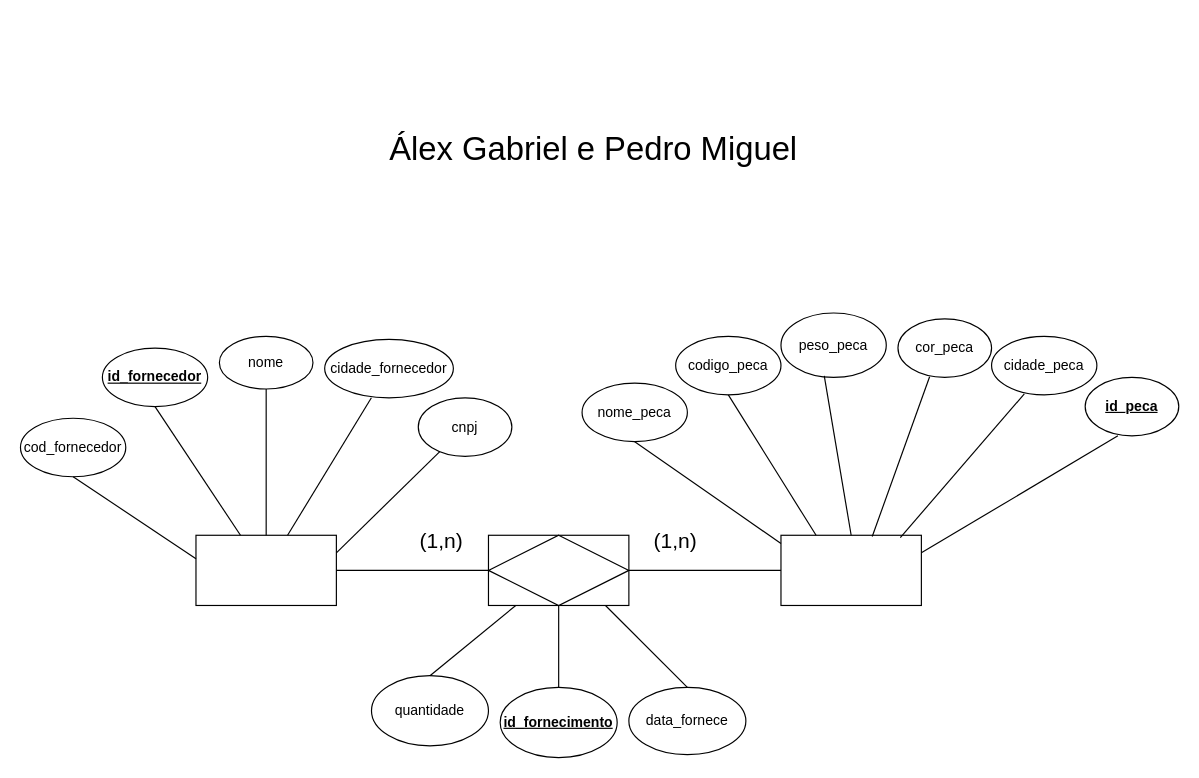
Some shapes in this 1199 by 778 pixel diagram are drawn without their labels. Here are the shapes that lost their labels. From the top down, the centre of each, then its label:
[265,569]: Fornecedor
[558,569]: Fornece
[850,569]: Peca
